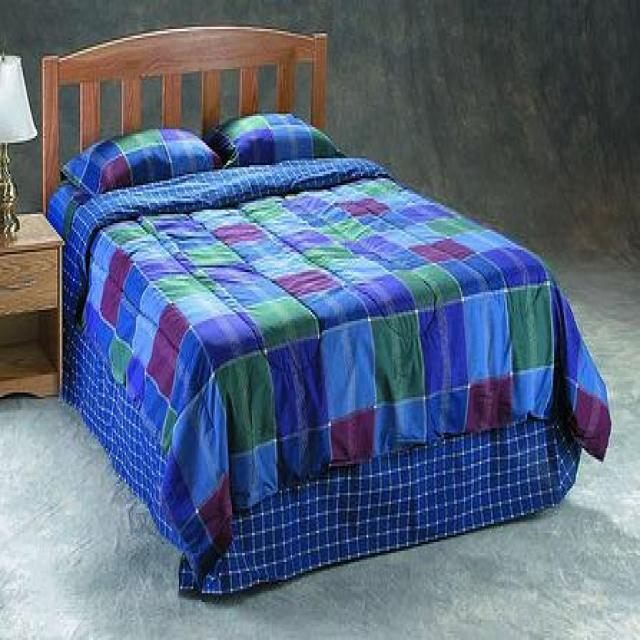bed: (40, 22, 610, 598)
